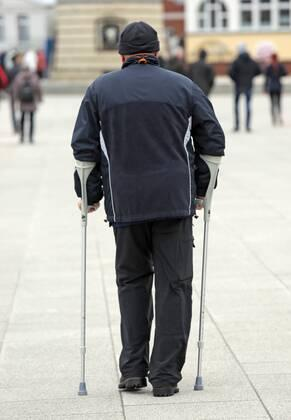crutches: (70, 21, 226, 397)
